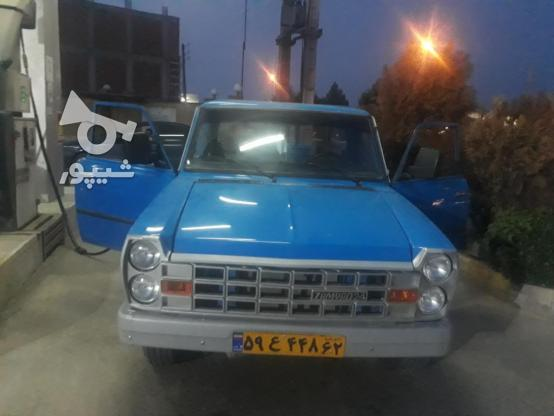car: (229, 332, 347, 358)
